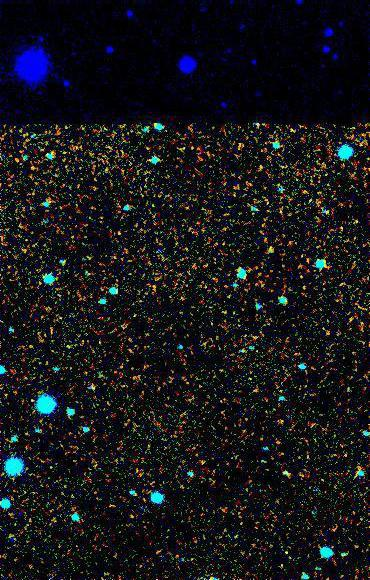star: (15, 382, 45, 412)
